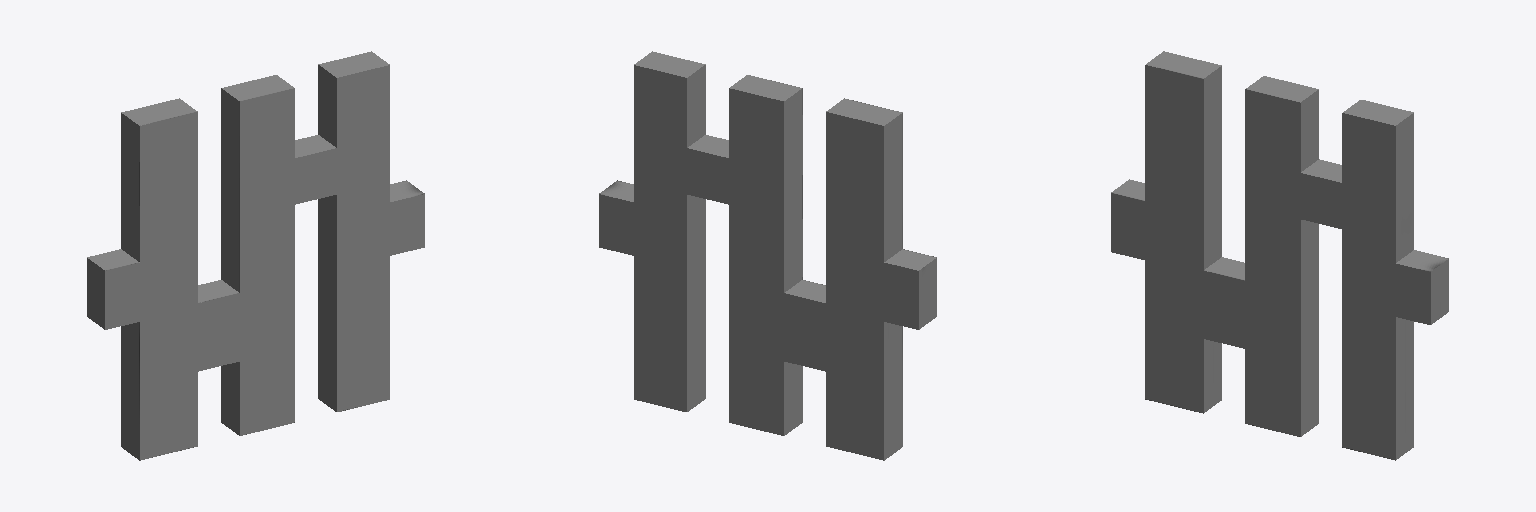
3 views of the same model, side by side, from view 1: azimuth 30°, elevation 25°; view 2: azimuth 150°, elevation 25°; view 3: azimuth 330°, elevation 25° (orthographic).
Visible parts, largest first — view 1: Cube; view 2: Cube; view 3: Cube.
Boxes of the visible parts, x1=… form: Cube: x1=87, y1=51, x2=424, y2=460; Cube: x1=599, y1=51, x2=936, y2=460; Cube: x1=1111, y1=51, x2=1448, y2=460.
Size of the model in its own units: 2 by 2 by 0.2.
1 materials, 1 textured.